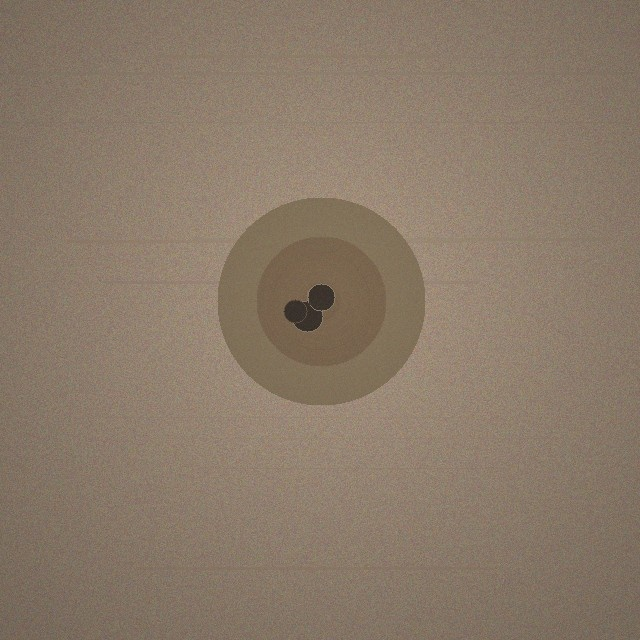shrinkage: (217, 197, 425, 405)
